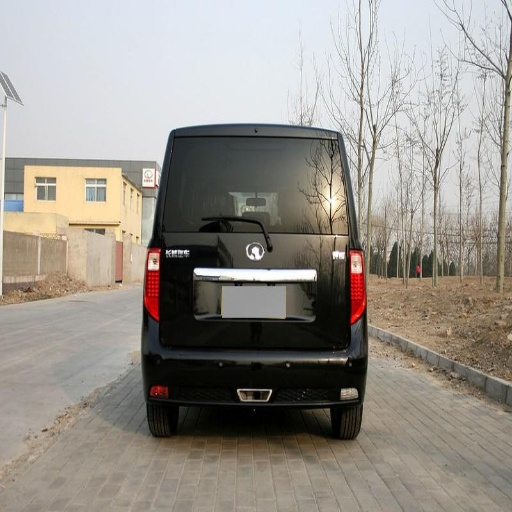back_bumper: (139, 318, 364, 404)
tailgate: (160, 231, 203, 320)
trunk: (160, 232, 349, 354)
